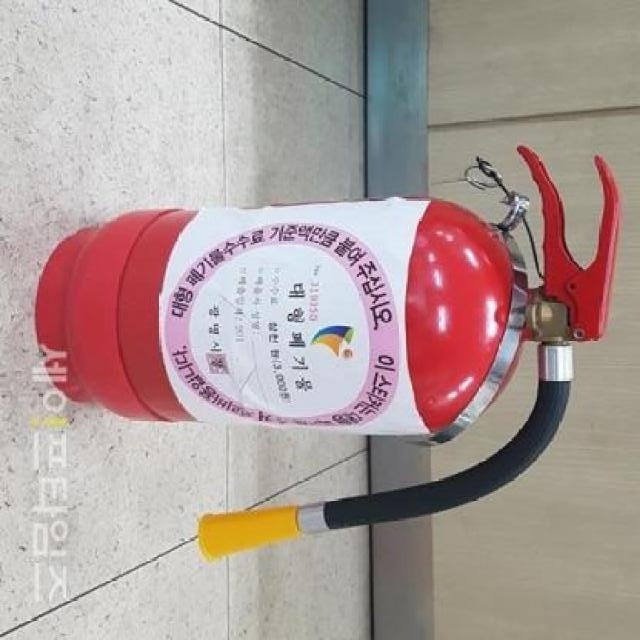fire extinguisher: (35, 146, 621, 562)
